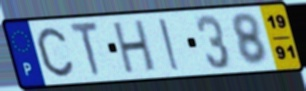3: (195, 13, 232, 72)
8: (230, 10, 271, 68)
C: (35, 26, 76, 79)
H: (111, 18, 158, 76)
I: (156, 17, 183, 72)
T: (68, 19, 103, 79)
